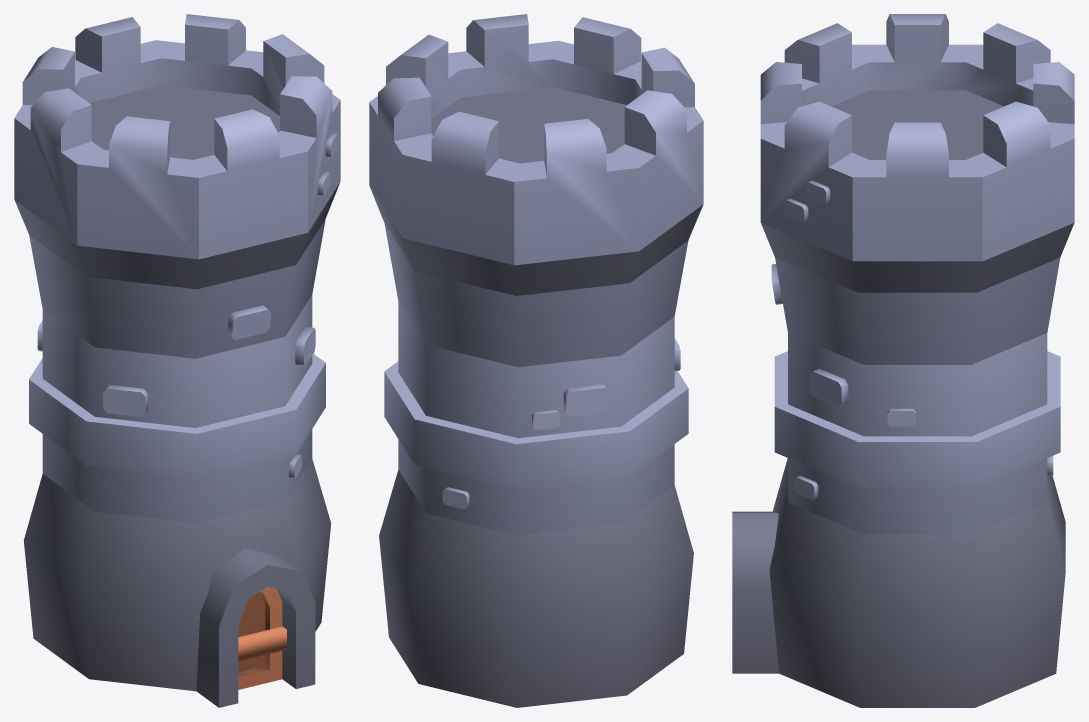
The model's file is tower-complete-small.glb.
3 views of the same model, side by side, from view 1: azimuth 30°, elevation 25°; view 2: azimuth 150°, elevation 25°; view 3: azimuth 270°, elevation 25° (orthographic). The views are drawn at different scales.
Parts seen in each view (by area): view 1: tower-complete-small; view 2: tower-complete-small; view 3: tower-complete-small.
Part boxes in pixels (<box>): tower-complete-small: <box>14,14,340,707</box>; tower-complete-small: <box>369,14,703,707</box>; tower-complete-small: <box>732,14,1074,707</box>.
Size of the model in its own units: 3.35 by 6.78 by 3.66.
1 material, 1 textured.
